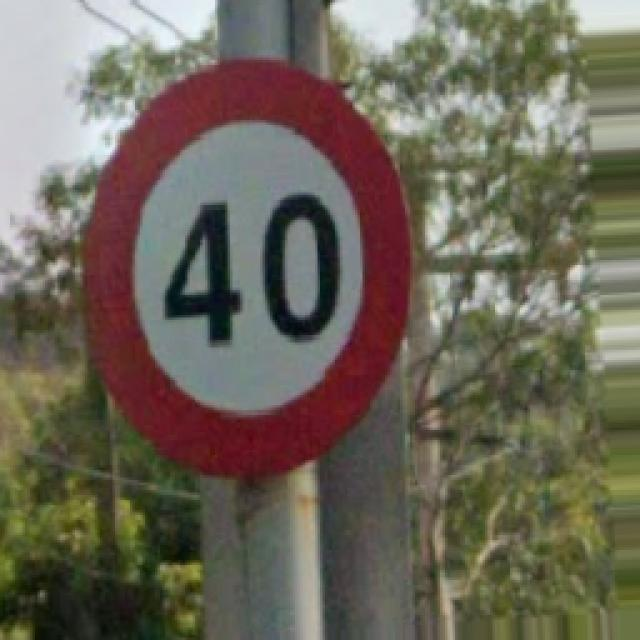Speed Limit -40-: (85, 60, 405, 472)
